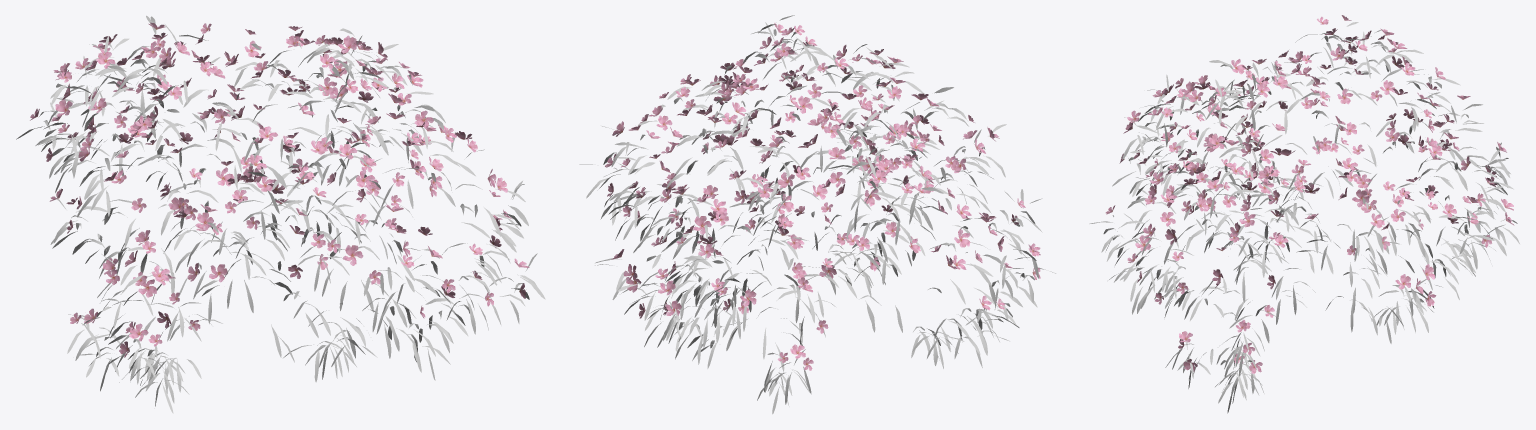
Rendered from MESH_BS09_NeriumOleander_Y_LOD2.fbx.
The picture shows the model from 3 angles, left to right: view 1: azimuth 30°, elevation 25°; view 2: azimuth 150°, elevation 25°; view 3: azimuth 270°, elevation 25°; orthographic projection. The views are drawn at different scales.
Visible parts, largest first — view 1: MI_LOD2_001, MI_LOD2_002; view 2: MI_LOD2_001, MI_LOD2_002; view 3: MI_LOD2_001, MI_LOD2_002.
Boxes of the visible parts, <box> form: MI_LOD2_001: <box>16,15,545,413</box>; MI_LOD2_002: <box>30,22,529,357</box>; MI_LOD2_001: <box>579,15,1055,414</box>; MI_LOD2_002: <box>605,23,1040,370</box>; MI_LOD2_001: <box>1089,22,1519,413</box>; MI_LOD2_002: <box>1105,15,1514,373</box>.
Size of what is drawn, in the model's own units: 256 by 197 by 250.
